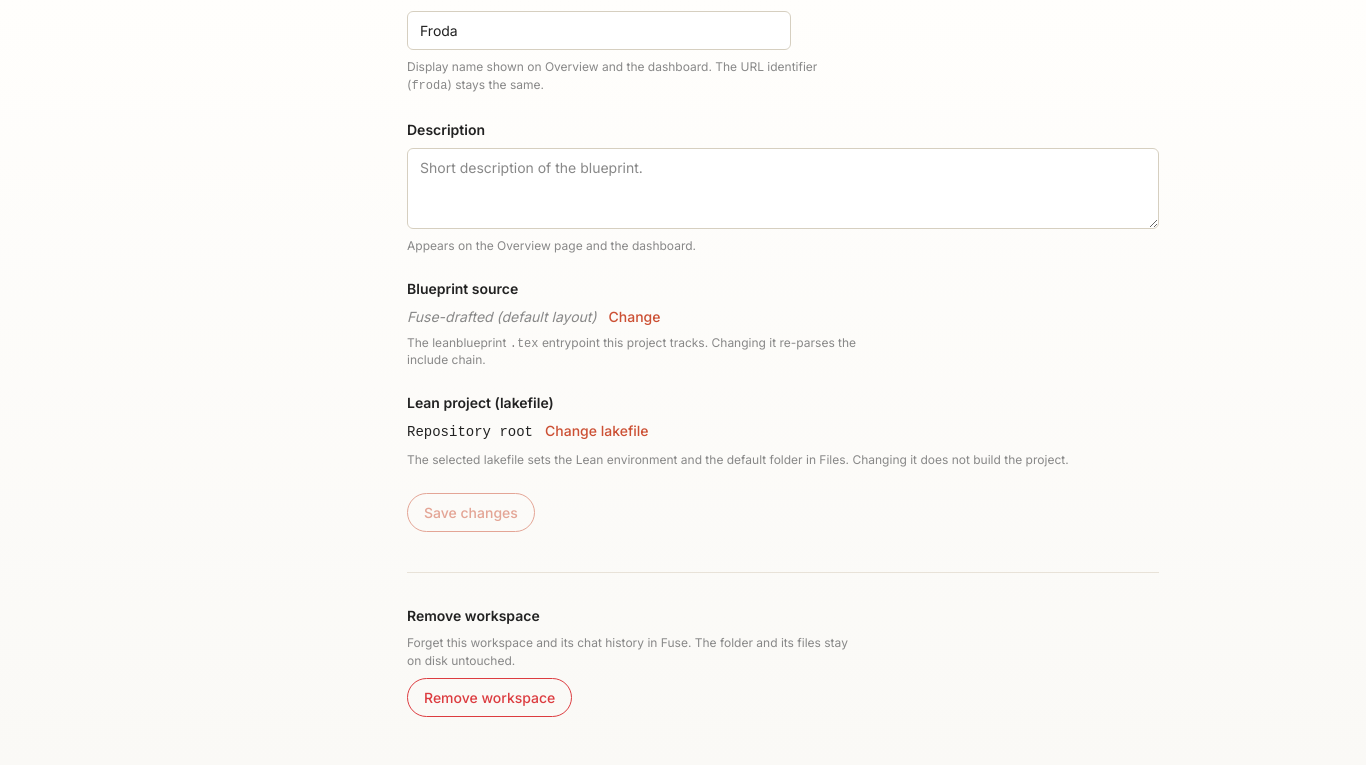
SettingsMode › remove workspace › surfaces a 409 reason verbatim and keeps the workspace
(page scrolled)
Click the button "Remove workspace".
click(490, 698)  # box [407,678,572,717]
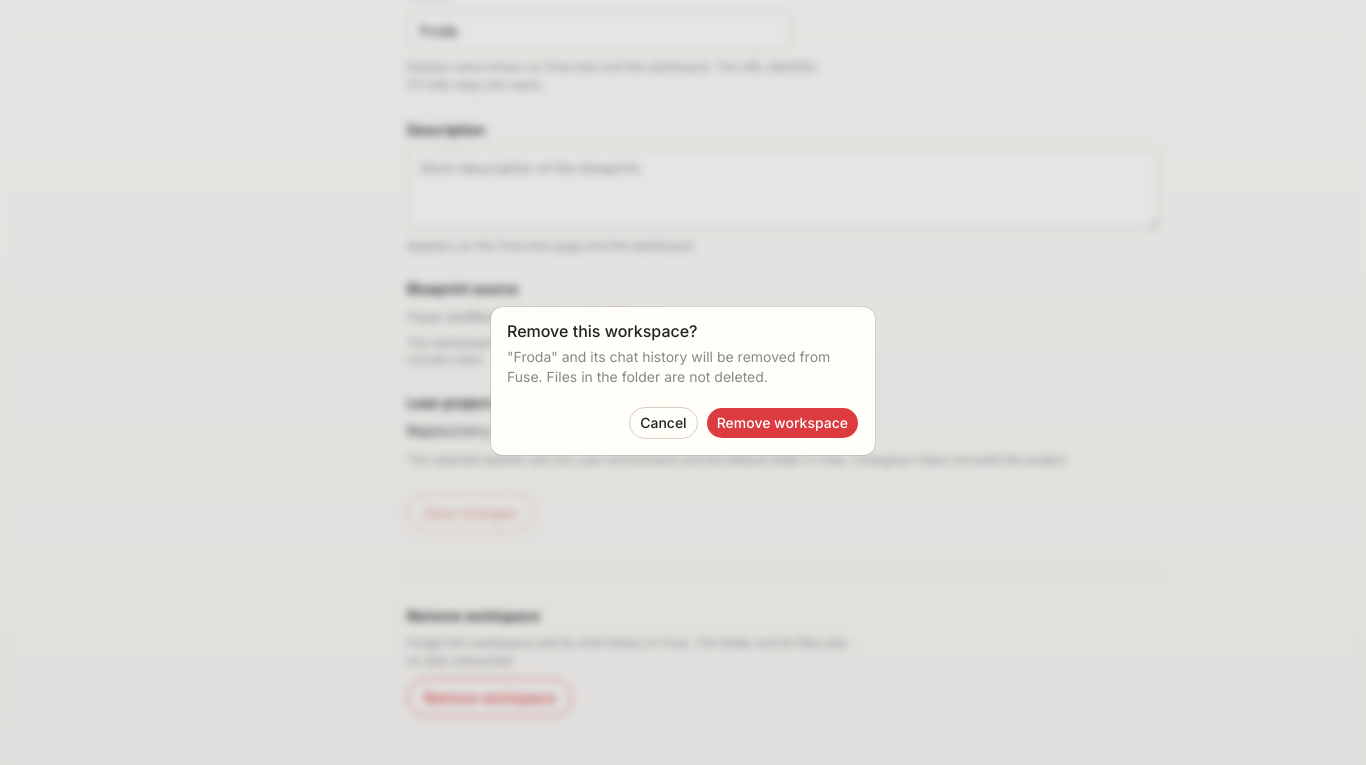
Click the button "Remove workspace".
click(782, 423)  # box [706,407,859,439]
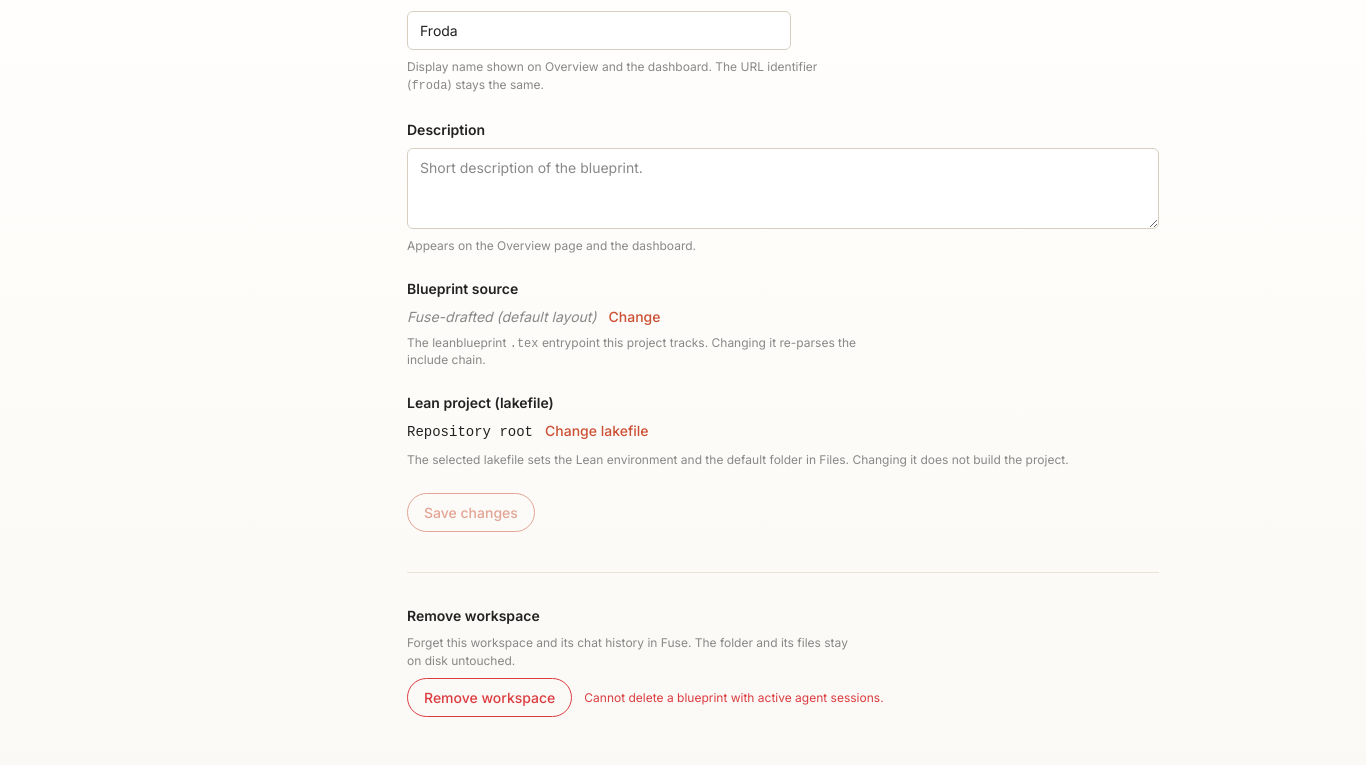
Expected: the text "Cannot delete a blueprint with active agent sessions." is shown, [584,690,884,706]
